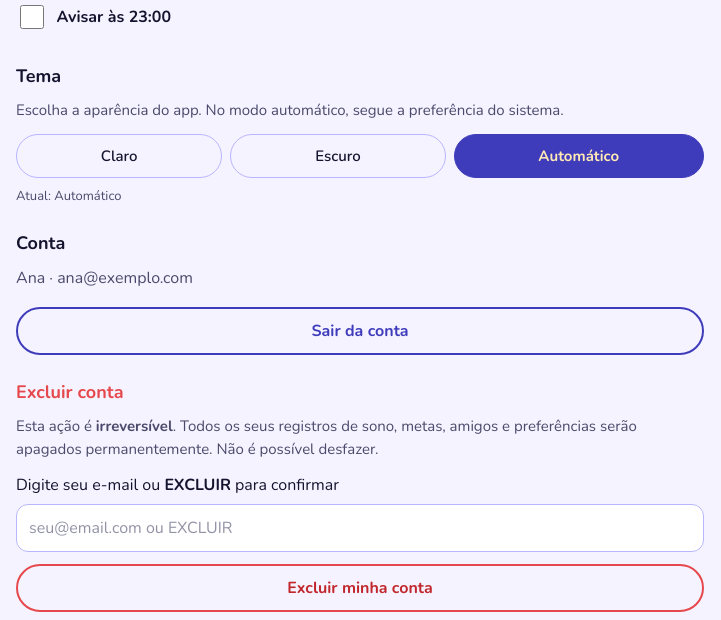
Test case: tela de Configurações › mostra erro e não navega quando o logout falha (#310)
(page scrolled)
Click the button "Sair da conta" at (360, 331), box [16, 307, 704, 355]
(page scrolled)
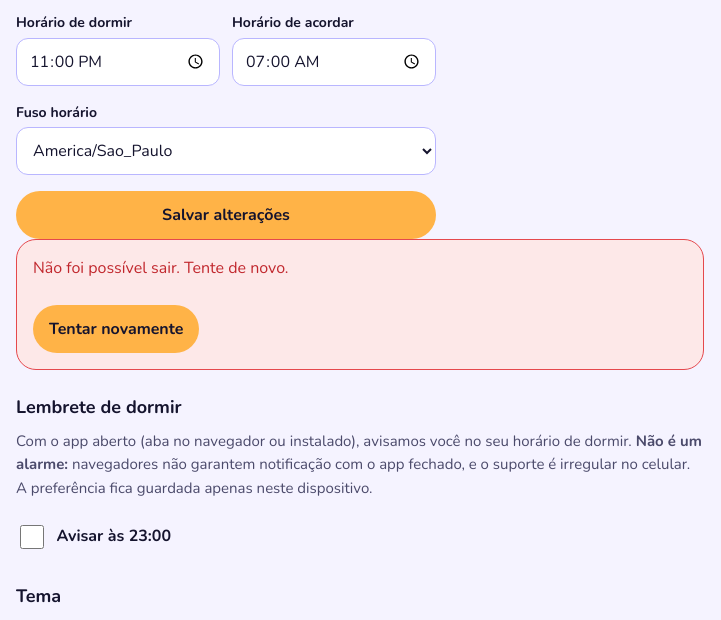
Now the text "Não foi possível sair. Tente de novo." is shown, box [33, 258, 288, 280]
